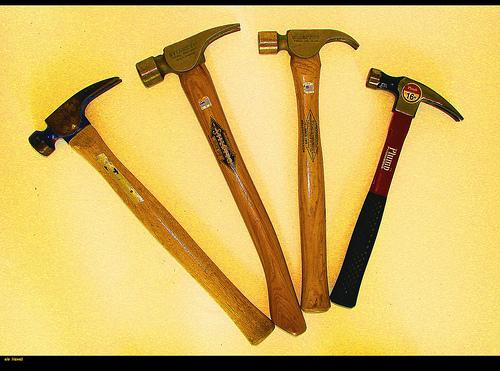hammer: (26, 75, 276, 346), (327, 65, 466, 309)
